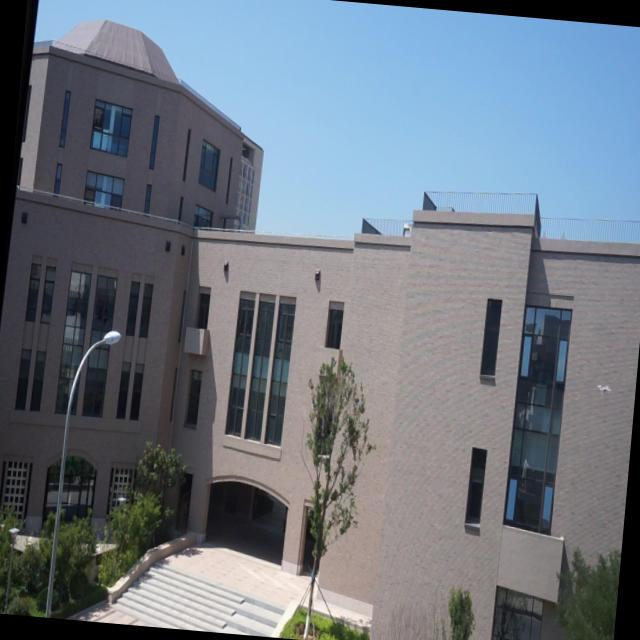drone: (594, 380, 614, 397)
